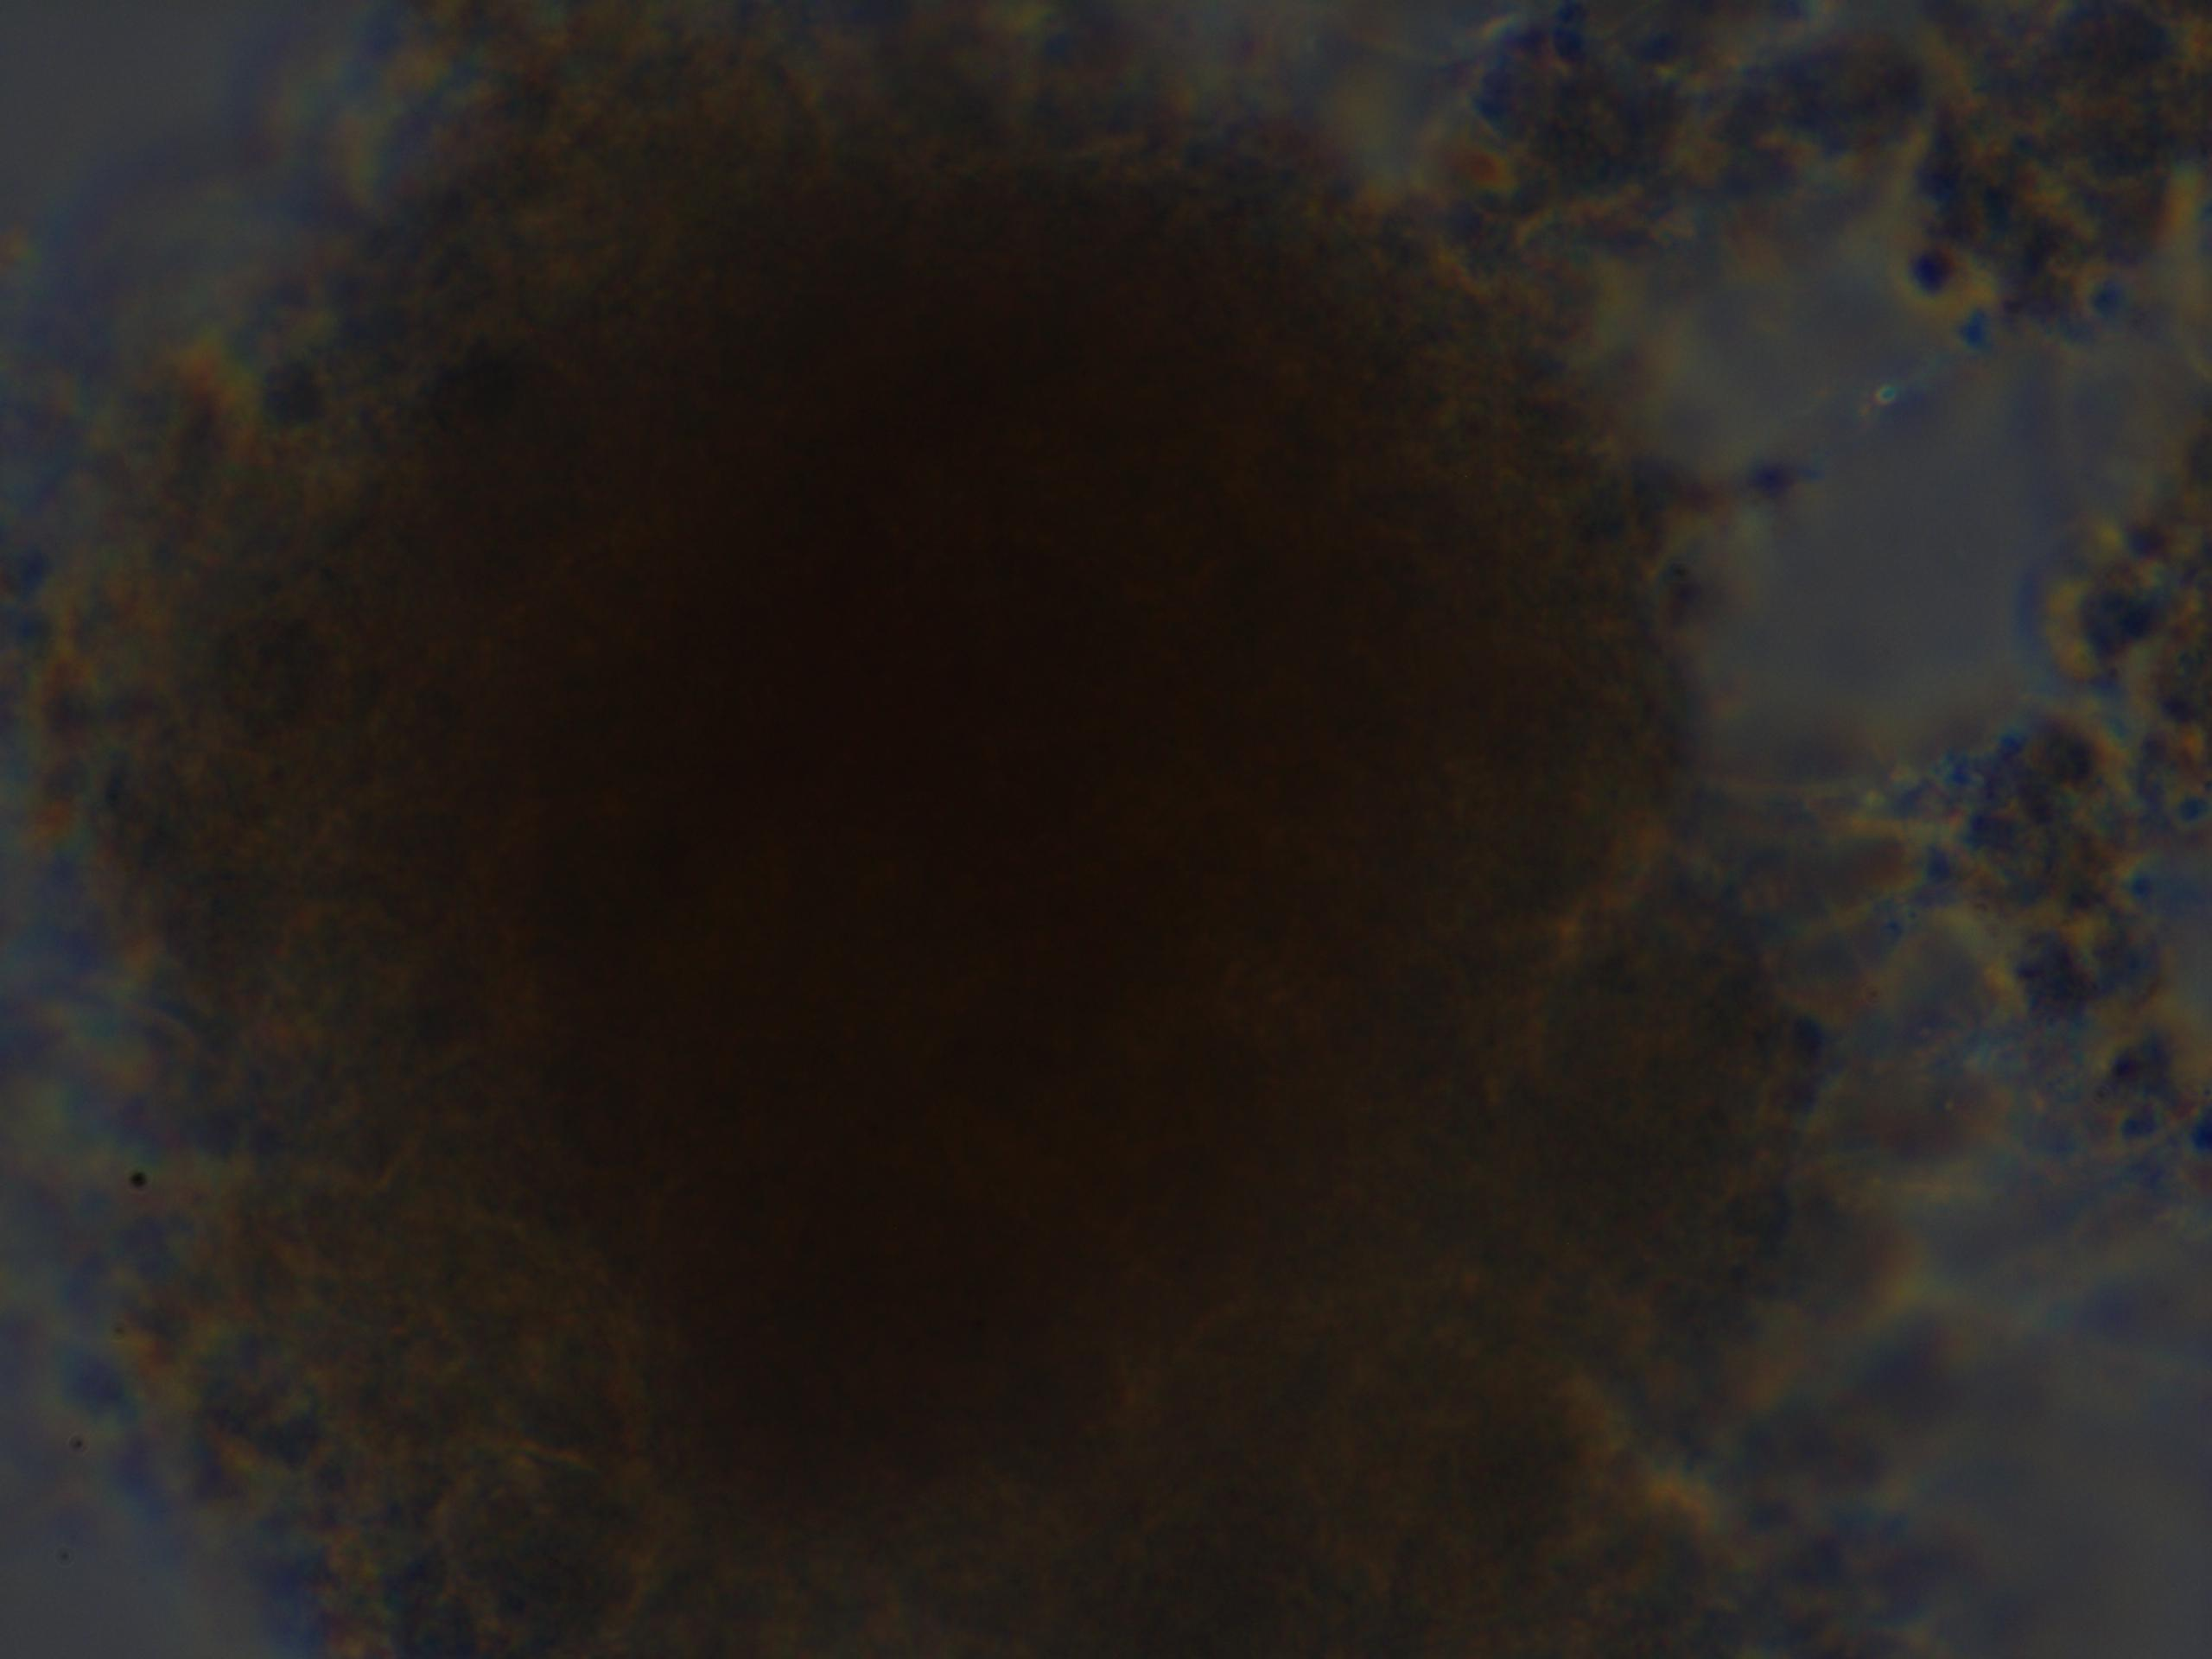spherical_floc: (5, 5, 1939, 1659)
